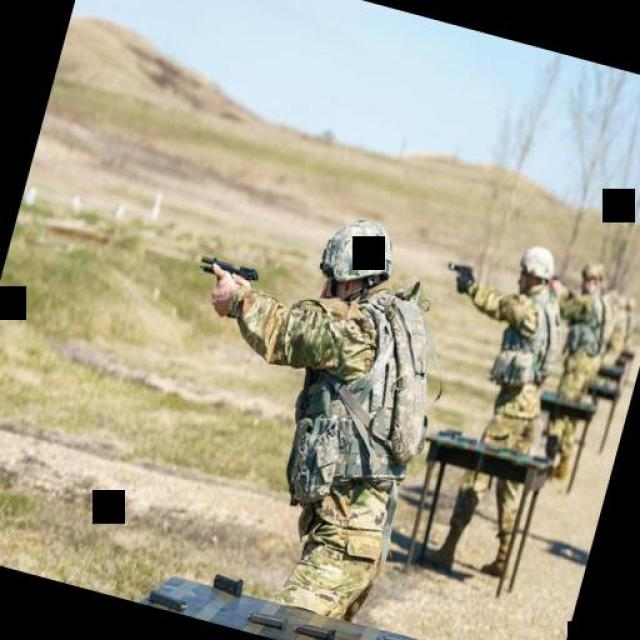gun: (191, 244, 261, 298), (441, 254, 475, 282)
